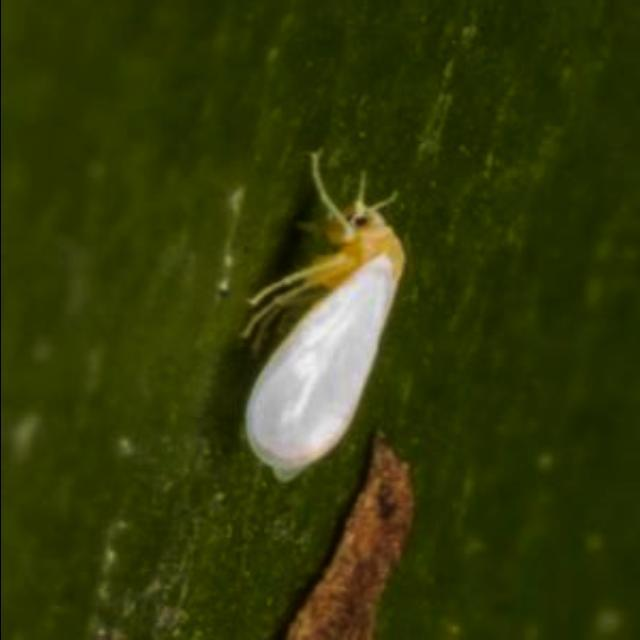Silverleaf whitefly: (165, 130, 428, 498)
